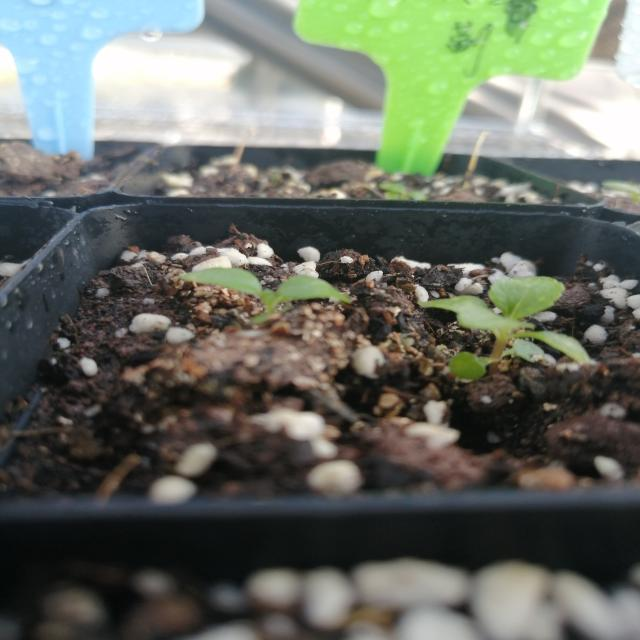billygoat_weed: (397, 268, 606, 382), (192, 256, 364, 324)
